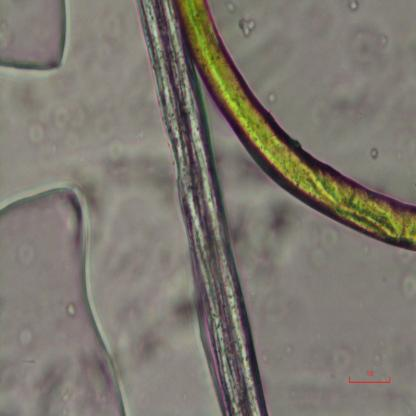Air bubble: (0, 180, 133, 415), (0, 0, 76, 82)
Background material: (68, 146, 173, 210), (230, 180, 290, 282), (126, 296, 194, 368), (25, 97, 86, 168), (300, 222, 339, 266), (348, 28, 390, 66), (326, 343, 353, 377), (397, 269, 416, 303), (238, 16, 256, 37), (264, 86, 276, 107), (368, 147, 380, 159), (349, 0, 359, 14)
Microfibre: (174, 0, 416, 255), (138, 1, 267, 415)
